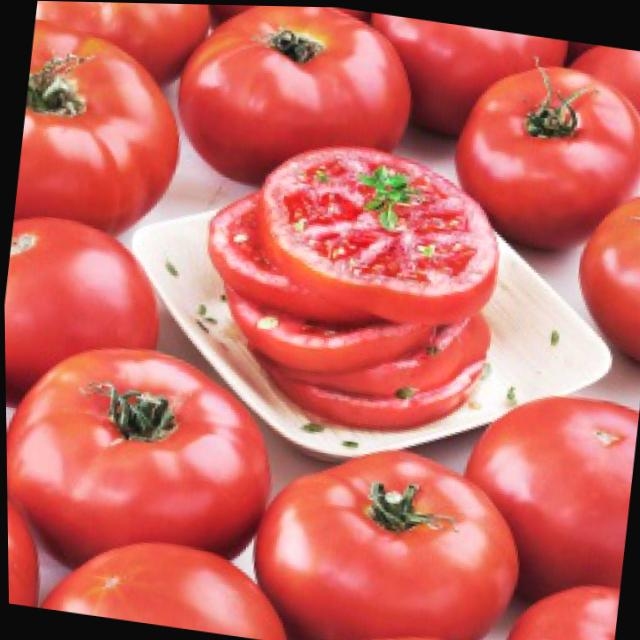tomato: (4, 340, 285, 599), (244, 431, 527, 640), (169, 3, 424, 205), (450, 379, 638, 597), (10, 31, 193, 244), (449, 54, 640, 250), (2, 211, 172, 424), (38, 527, 286, 640), (362, 11, 554, 150), (29, 1, 216, 90), (565, 176, 640, 362), (497, 570, 616, 640)
